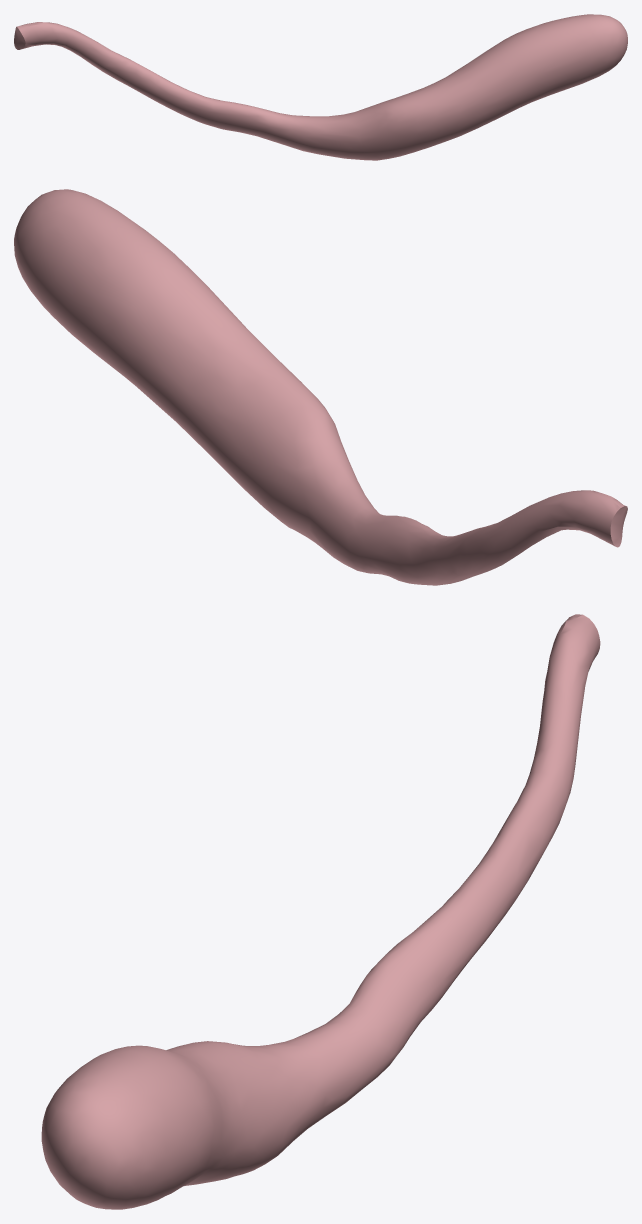
File: fma234987_mm3244.glb
3 views of the same model, one above another, from view 1: azimuth 30°, elevation 25°; view 2: azimuth 150°, elevation 25°; view 3: azimuth 270°, elevation 25° (orthographic). The views are drawn at different scales.
Visible parts, largest first — view 1: FMA234987_MM3244; view 2: FMA234987_MM3244; view 3: FMA234987_MM3244.
Boxes of the visible parts, left/top/right/bottom form: FMA234987_MM3244: left=14, top=14, right=627, bottom=160; FMA234987_MM3244: left=14, top=189, right=627, bottom=585; FMA234987_MM3244: left=41, top=614, right=600, bottom=1209.
Bounding box in the file's own units: 0.0311 × 0.00862 × 0.0155.
